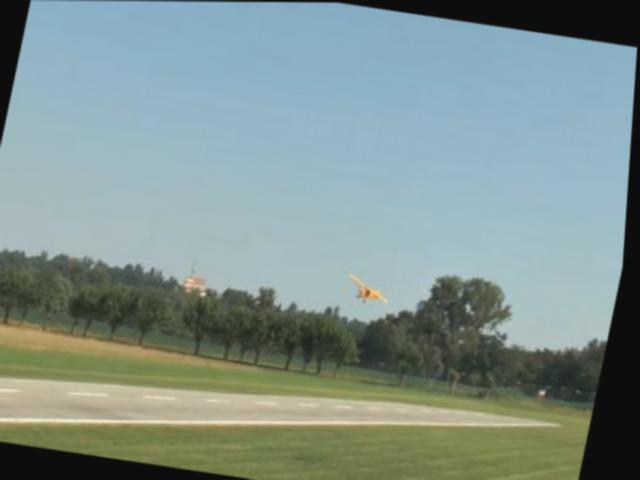uav: (339, 262, 403, 314)
